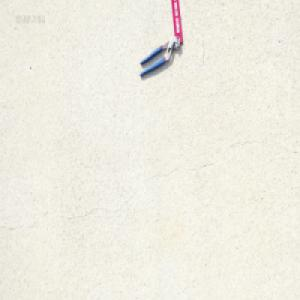Label: (170, 0, 183, 45)
Pliers: (138, 35, 180, 78)
